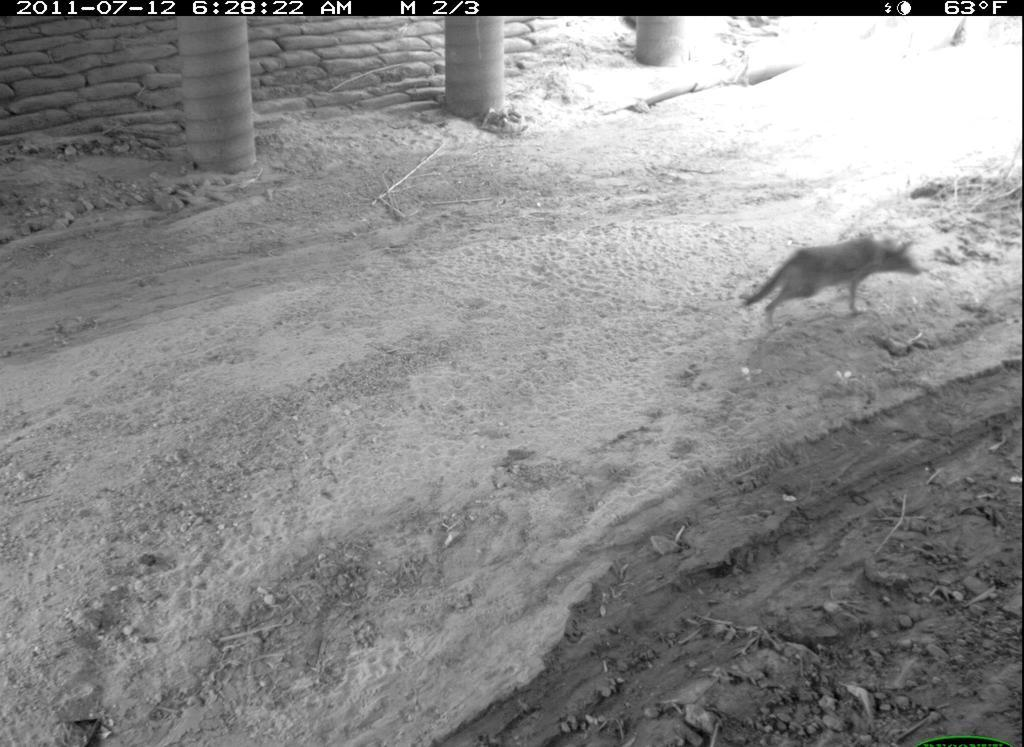coyote: (743, 212, 950, 347)
